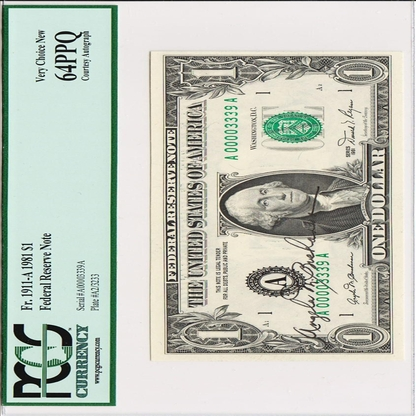one-front: (143, 43, 410, 368)
